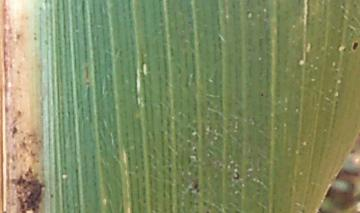tarspot: (7, 167, 44, 213), (10, 125, 19, 140), (350, 40, 359, 52), (192, 182, 201, 193), (232, 170, 240, 181), (31, 31, 37, 42), (258, 90, 265, 98), (15, 32, 20, 42), (192, 146, 199, 153), (16, 110, 22, 117), (49, 193, 54, 199)
